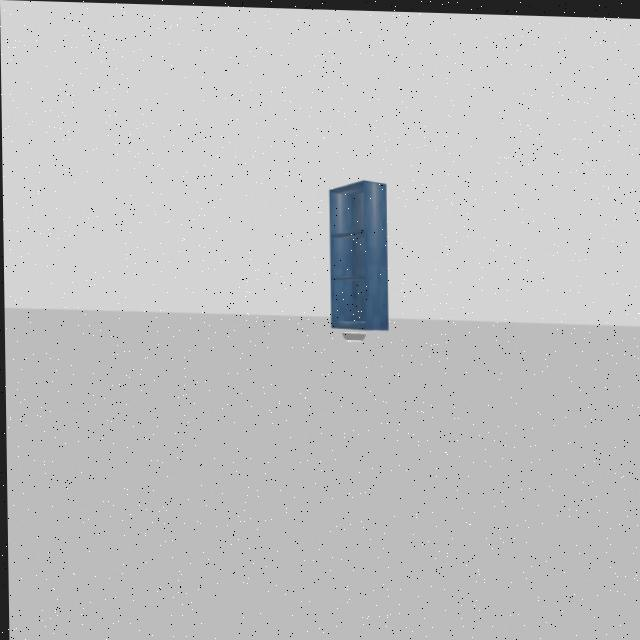bowl: (335, 326, 368, 346)
shelf: (322, 169, 391, 327)
